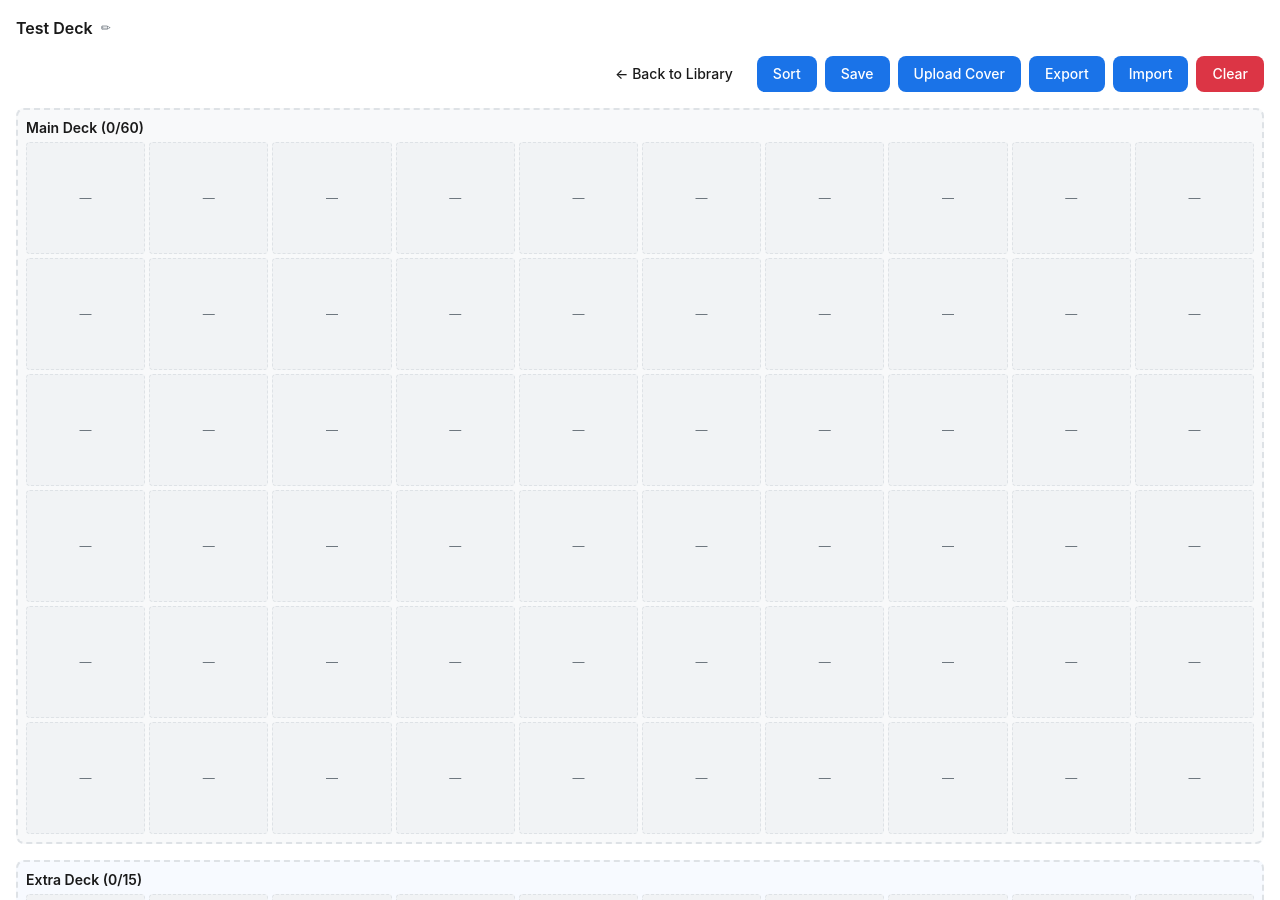
DeckBuilder save/import/export › Save shows success Toast on success
This screenshot has width=1280, height=900.
Click the button "Save": (857, 74) [825,56,890,92]
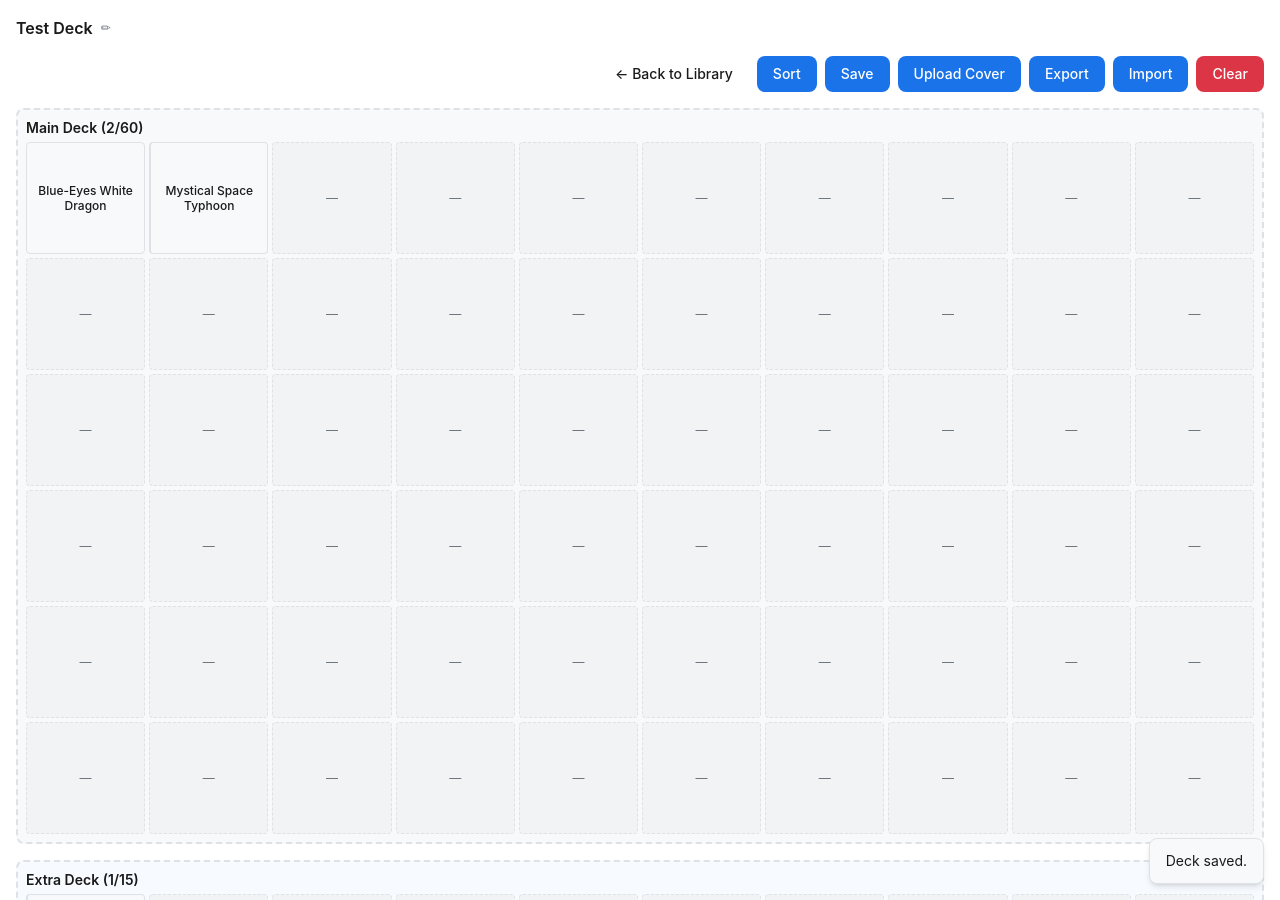
Check: the text "Deck saved." is shown, box [1149,838,1264,884]
